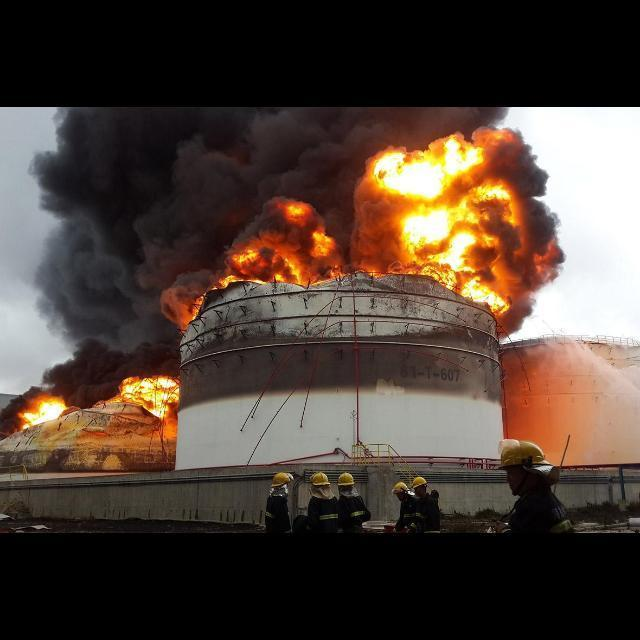Fire: (368, 129, 524, 317), (192, 204, 344, 322), (102, 376, 180, 418), (17, 398, 67, 432)
Smoke: (1, 108, 196, 378), (200, 105, 368, 204), (370, 104, 508, 138)
